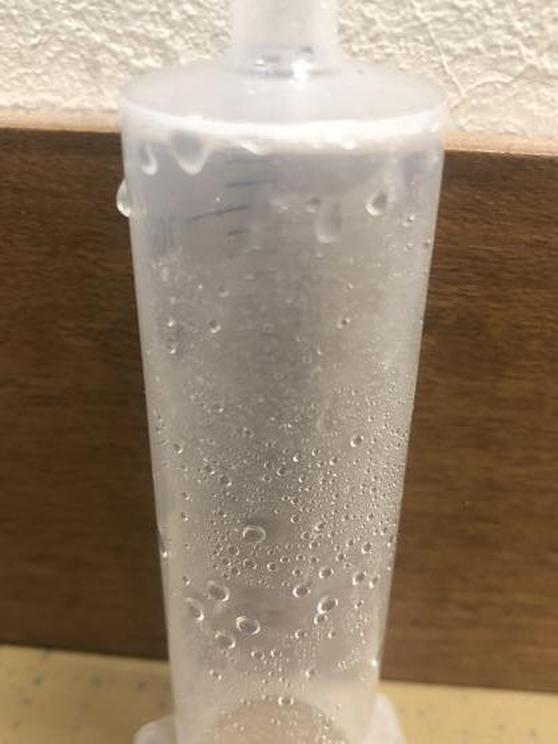wetsyringe: (114, 1, 447, 741)
